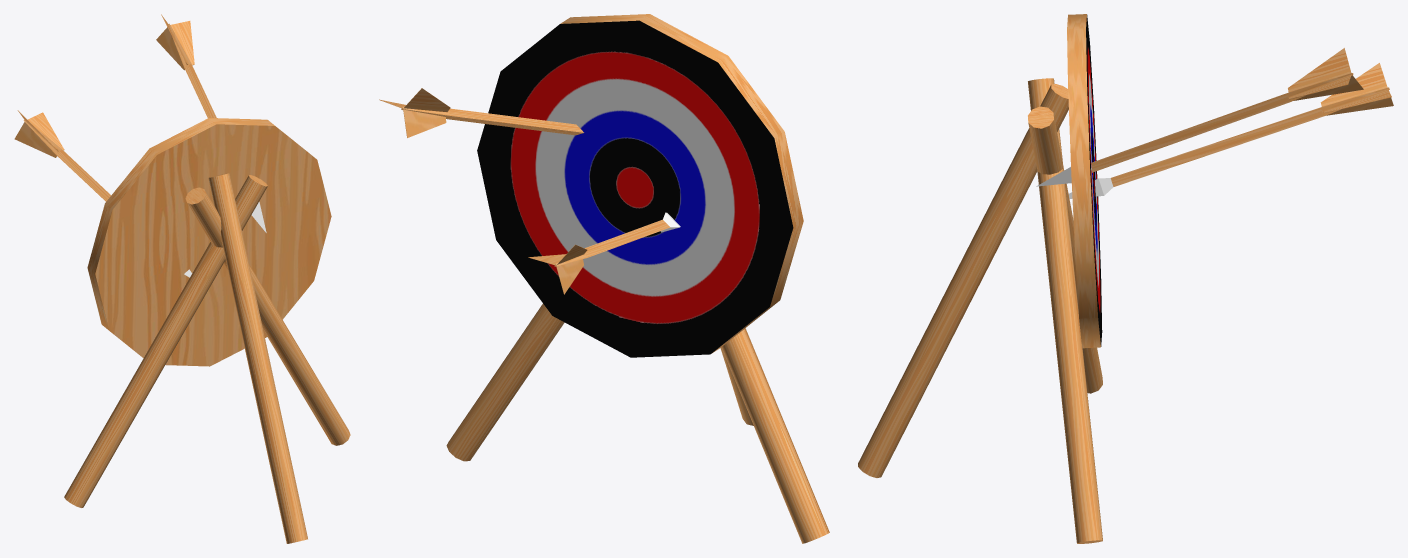
Rendered from GAM0210037.fbx.
3 renders of one model, left to right at view 1: azimuth 30°, elevation 25°; view 2: azimuth 150°, elevation 25°; view 3: azimuth 270°, elevation 25°, orthographic. The views are drawn at different scales.
Visible parts, largest first — view 1: smGAM0210037; view 2: smGAM0210037; view 3: smGAM0210037.
Part boxes in pixels (x1,y1,x2,y2): smGAM0210037: (14, 14, 350, 543); smGAM0210037: (379, 14, 829, 543); smGAM0210037: (858, 14, 1393, 543).
Bounding box in the file's own units: 130 × 165 × 174.
1 material, 1 textured.
